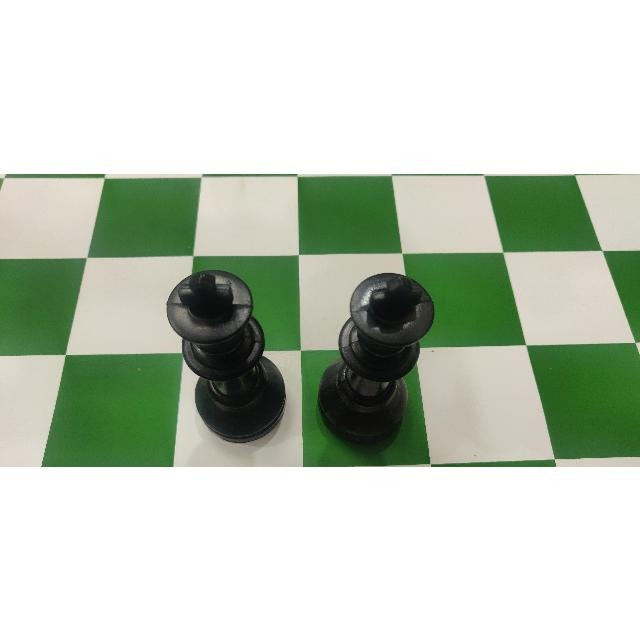black-king: (165, 268, 287, 444), (319, 268, 437, 446)
